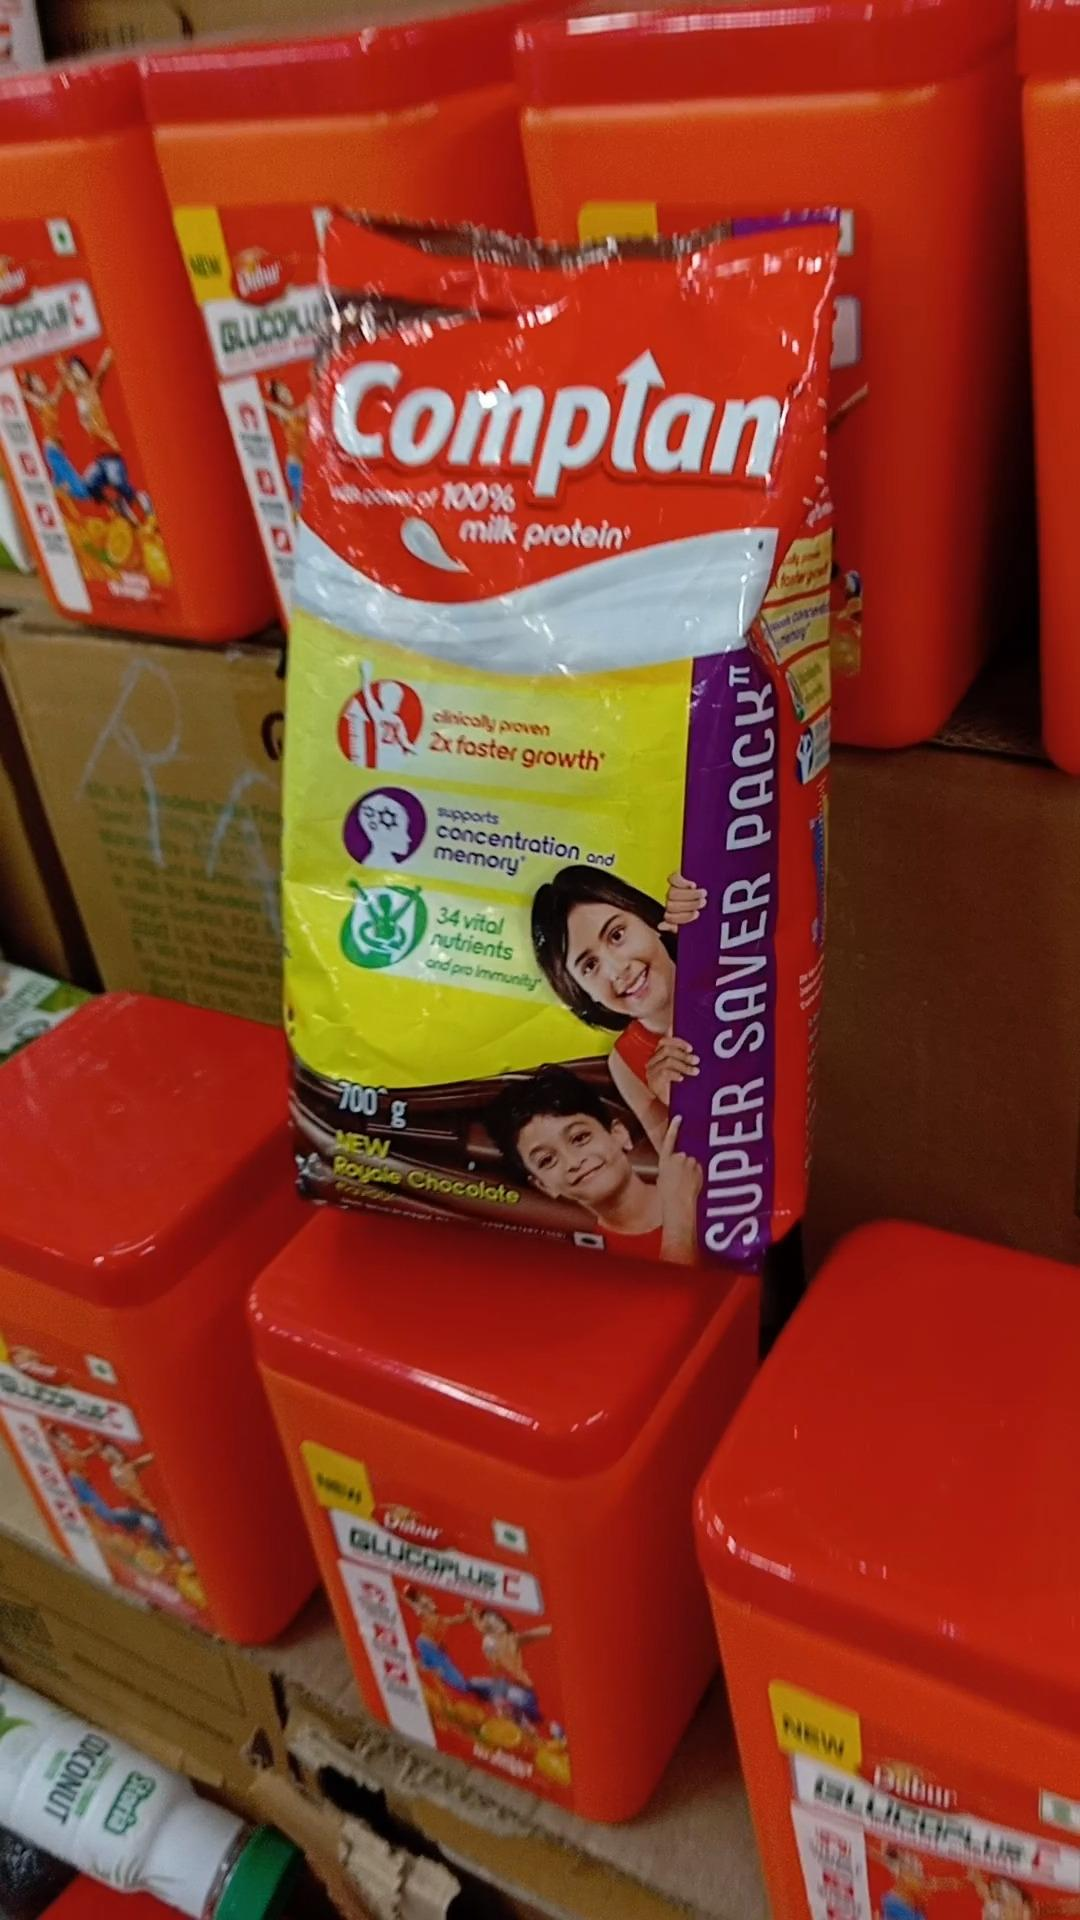COMPLAN_RC_POUCH_700_GMS_12: (297, 251, 818, 1257)
